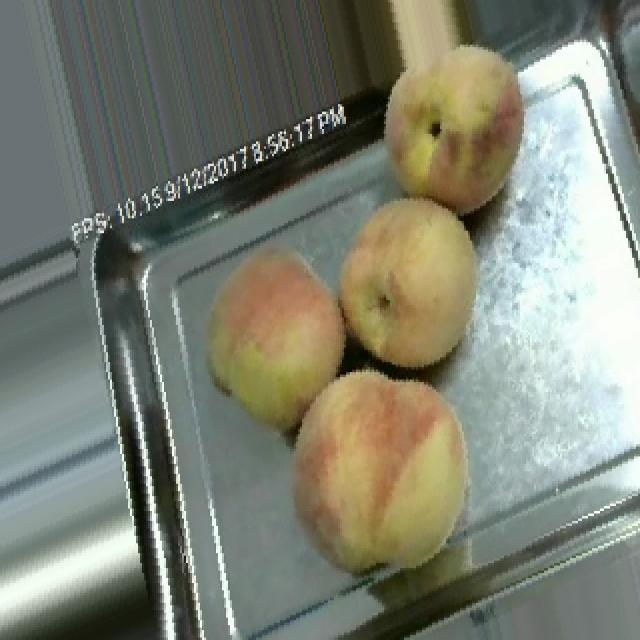Fruit: (254, 327, 512, 608), (354, 13, 558, 243), (178, 224, 372, 456), (316, 174, 510, 397)
